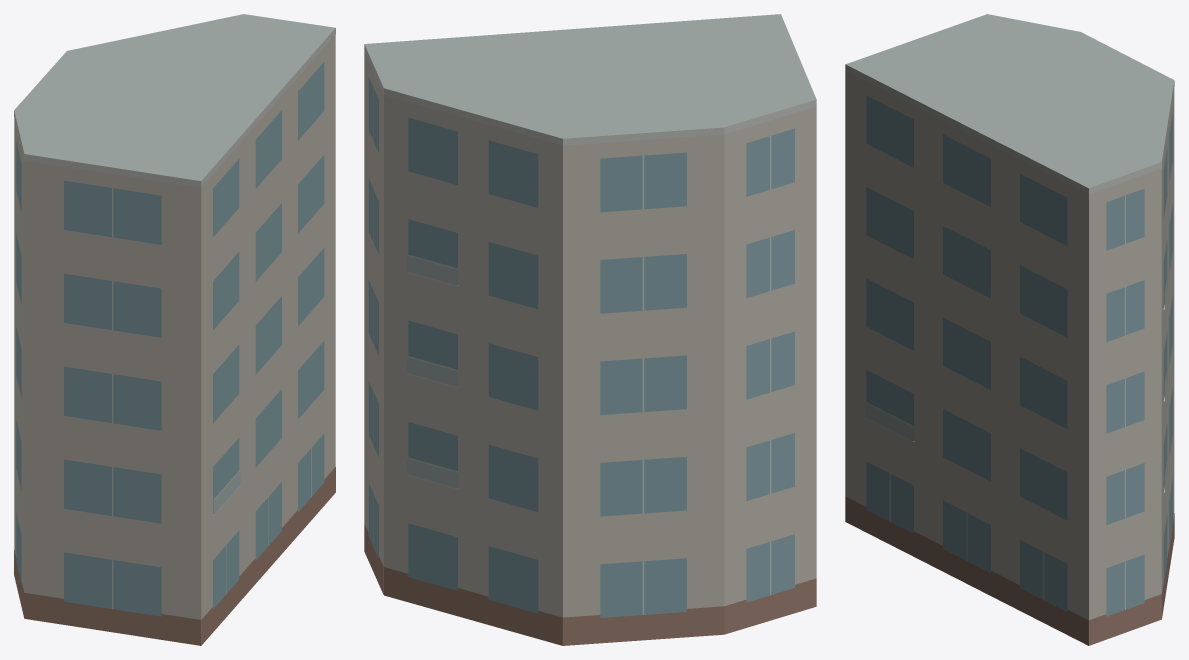
File: survey-upis-33020584.glb
The picture shows the model from 3 angles, left to right: view 1: azimuth 30°, elevation 25°; view 2: azimuth 150°, elevation 25°; view 3: azimuth 270°, elevation 25°; orthographic projection. The views are drawn at different scales.
Visible parts, largest first — view 1: survey-upis-33020584.tmp; view 2: survey-upis-33020584.tmp; view 3: survey-upis-33020584.tmp.
Boxes of the visible parts, x1=… form: survey-upis-33020584.tmp: x1=14, y1=14, x2=335, y2=645; survey-upis-33020584.tmp: x1=364, y1=14, x2=816, y2=645; survey-upis-33020584.tmp: x1=845, y1=14, x2=1174, y2=645.
Size of the model in its own units: 14.6 by 17.85 by 11.64.
